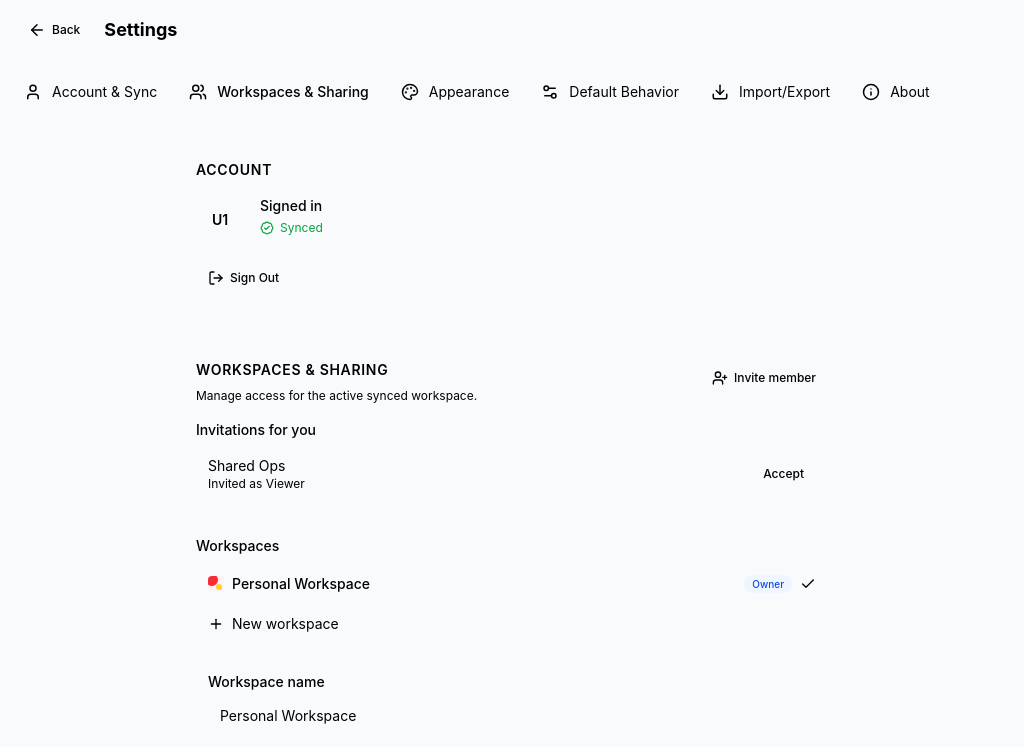
it: SettingsScreen › displays errors when accepting a pending workspace invite fails
The width and height of the screenshot is (1024, 747).
What coordinates should you click on to do the following:
click the button "Accept"
I would click on:
 (784, 474)
Its box is x1=751 y1=456 x2=816 y2=492.
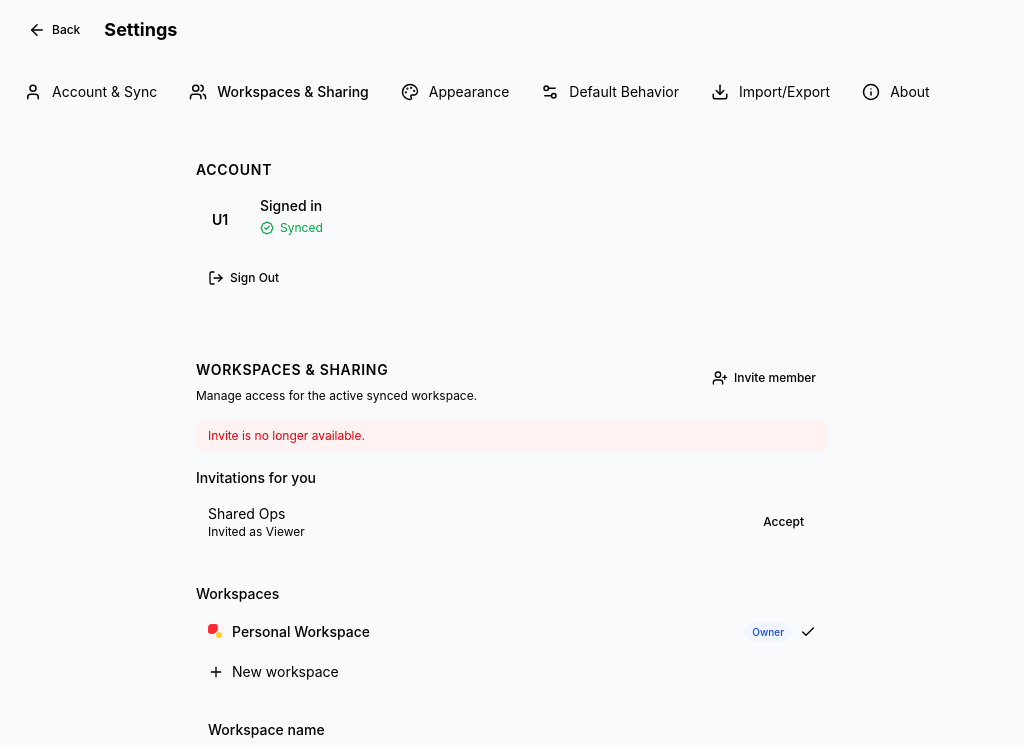
Now the message reads "Invite is no longer available.", box x1=208 y1=428 x2=365 y2=443
